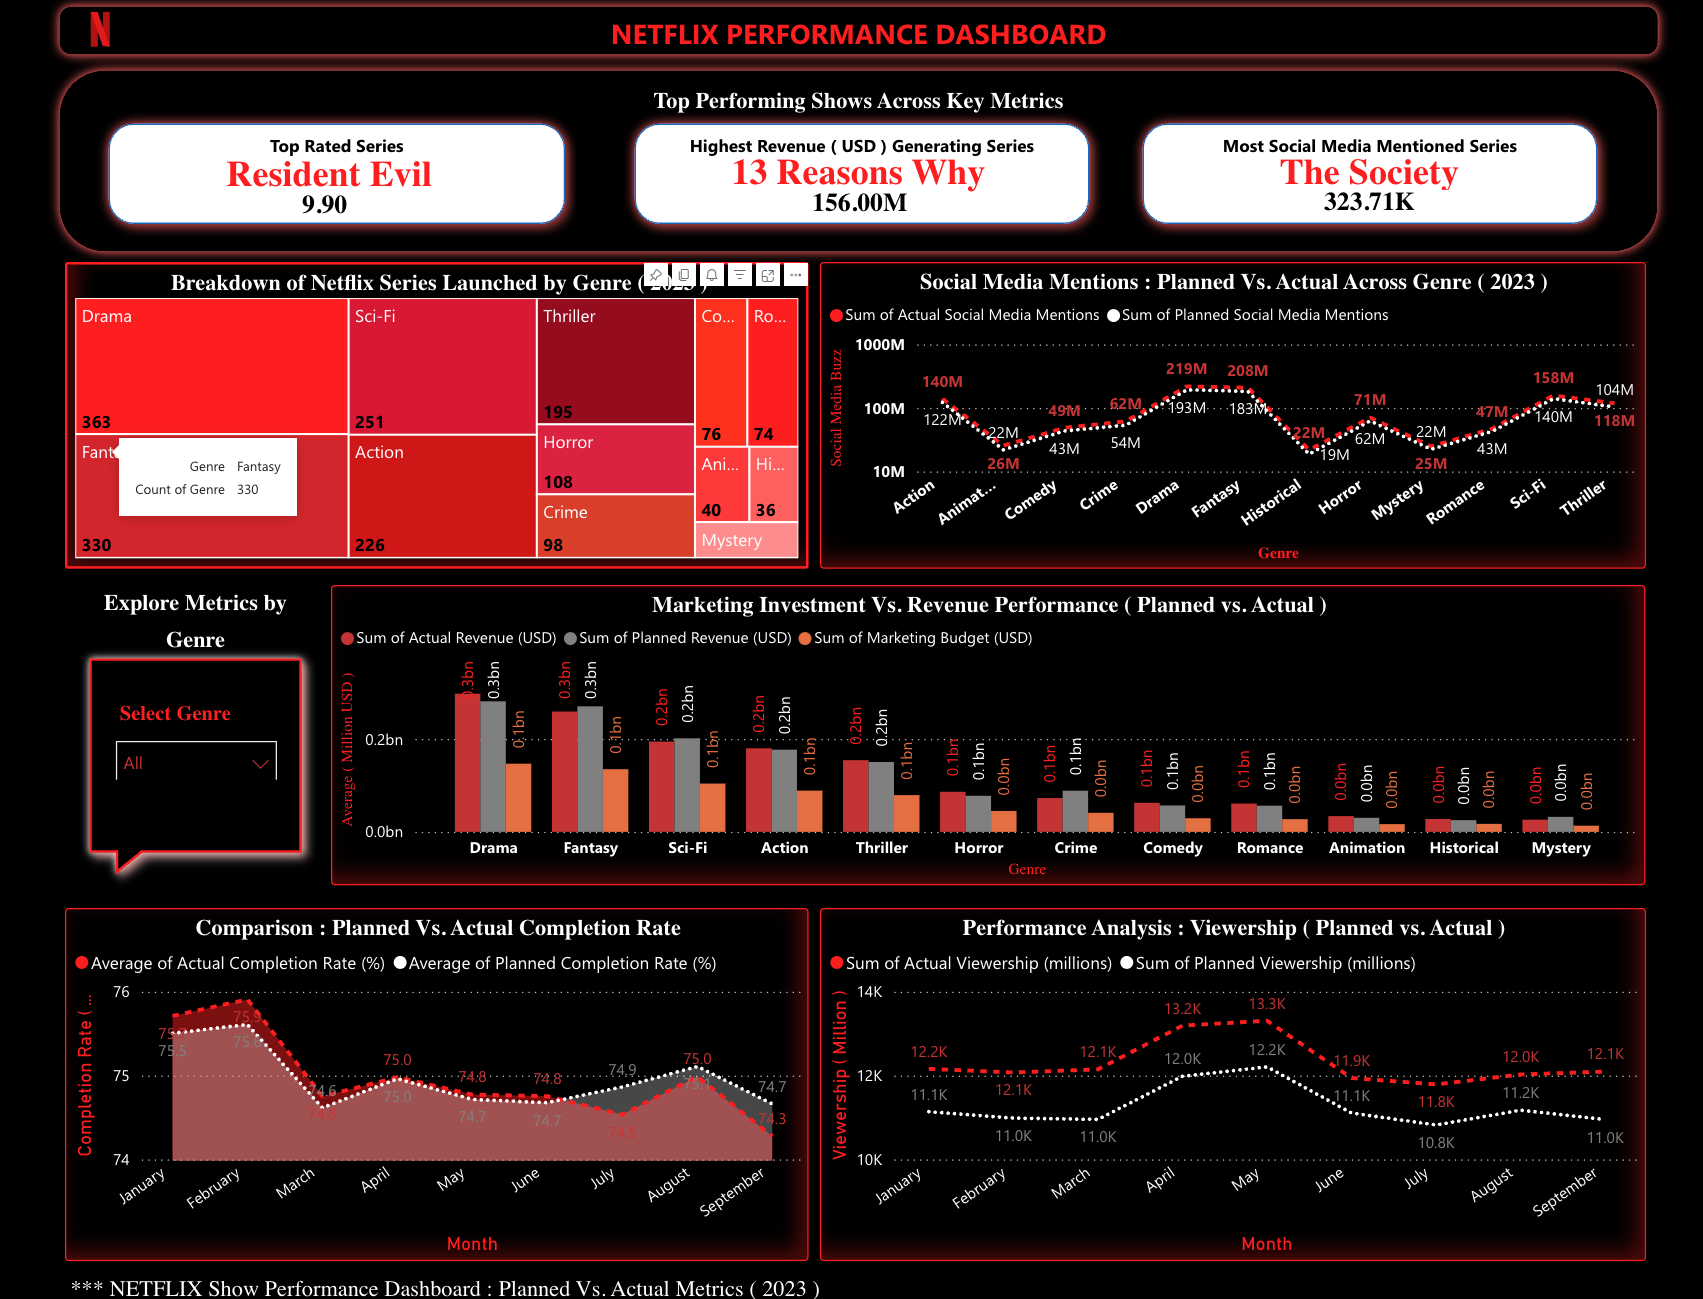

The page's visual inventory and layout, read from the dashboard file:
{"tool":"powerbi","page":{"name":"Netflix_Dashboard","canvas":[1280,1015],"ordinal":0},"visuals":[{"type":"shape","box":[10.1,1.4,1256.5,53.6],"z":0},{"type":"image","box":[10,3.7,78.4,47.3],"z":1000},{"type":"shape","box":[10,51,1256.2,156.7],"z":2000},{"type":"shape","box":[47.2,91.7,372.2,95.8],"z":3000},{"type":"shape","box":[455.6,91.7,370.8,95.8],"z":4000},{"type":"shape","box":[850,91.7,370.8,95.8],"z":5000},{"type":"card","fields":{"Values":["Avg(Final_Cleaned_Netflix_TV_Shows_KPI_Dataset.Actual Rating (IMDB))"]},"box":[175,147.2,97.2,33.3],"z":6000},{"type":"card","title":"hhhh","fields":{"Values":["Min(Final_Cleaned_Netflix_TV_Shows_KPI_Dataset.Show Name)"]},"box":[116.7,119.4,222.2,38.9],"z":7000},{"type":"card","title":"hhhh","fields":{"Values":["Min(Final_Cleaned_Netflix_TV_Shows_KPI_Dataset.Show Name)"]},"box":[515.3,115.3,245.8,43.1],"z":8000},{"type":"card","fields":{"Values":["Sum(Final_Cleaned_Netflix_TV_Shows_KPI_Dataset.Actual Revenue (USD))"]},"box":[590.3,145.8,97.2,33.3],"z":9000},{"type":"card","title":"hhhh","fields":{"Values":["Min(Final_Cleaned_Netflix_TV_Shows_KPI_Dataset.Show Name)"]},"box":[918.1,118.1,233.3,38.9],"z":10000},{"type":"card","fields":{"Values":["Sum(Final_Cleaned_Netflix_TV_Shows_KPI_Dataset.Actual Revenue (USD))"]},"box":[984.7,145.8,100,31.9],"z":11000},{"type":"treemap","title":"Breakdown of Netflix Series Launched by Genre ( 2023 )","fields":{"Values":["CountNonNull(Final_Cleaned_Netflix_TV_Shows_KPI_Dataset.Genre)"],"Group":["Final_Cleaned_Netflix_TV_Shows_KPI_Dataset.Genre"]},"box":[22.4,207.7,577.1,237.6],"z":12000},{"type":"areaChart","title":"Social Media Mentions : Planned Vs. Actual  Across Genre ( 2023 )","fields":{"Category":["Final_Cleaned_Netflix_TV_Shows_KPI_Dataset.Genre"],"Y":["Sum(Final_Cleaned_Netflix_TV_Shows_KPI_Dataset.Actual Social Media Mentions)","Sum(Final_Cleaned_Netflix_TV_Shows_KPI_Dataset.Planned Social Media Mentions)"]},"box":[608.2,207.7,640.5,237.6],"z":13000},{"type":"shape","title":"Explore Metrics by Genre","box":[30.4,459.4,187,234.8],"z":14000},{"type":"slicer","fields":{"Values":["Final_Cleaned_Netflix_TV_Shows_KPI_Dataset.Genre"]},"box":[52.2,542,144.9,68.1],"z":15000},{"type":"clusteredColumnChart","title":"Marketing Investment Vs. Revenue Performance ( Planned vs. Actual )","fields":{"Category":["Final_Cleaned_Netflix_TV_Shows_KPI_Dataset.Genre"],"Y":["Sum(Final_Cleaned_Netflix_TV_Shows_KPI_Dataset.Actual Revenue (USD))","Sum(Final_Cleaned_Netflix_TV_Shows_KPI_Dataset.Planned Revenue (USD))","Sum(Final_Cleaned_Netflix_TV_Shows_KPI_Dataset.Marketing Budget (USD))"]},"box":[228.9,459,1019.9,232.6],"z":16000},{"type":"areaChart","title":"Comparison : Planned Vs. Actual Completion Rate","fields":{"Category":["Final_Cleaned_Netflix_TV_Shows_KPI_Dataset.Date.Variation.Date Hierarchy.Month"],"Y":["Avg(Final_Cleaned_Netflix_TV_Shows_KPI_Dataset.Actual Completion Rate (%))","Avg(Final_Cleaned_Netflix_TV_Shows_KPI_Dataset.Planned Completion Rate (%))"]},"box":[22.4,709,577.1,273.6],"z":17000},{"type":"lineChart","title":"Performance Analysis : Viewership ( Planned vs. Actual )","fields":{"Category":["Final_Cleaned_Netflix_TV_Shows_KPI_Dataset.Date.Variation.Date Hierarchy.Month"],"Y":["Sum(Final_Cleaned_Netflix_TV_Shows_KPI_Dataset.Actual Viewership (millions))","Sum(Final_Cleaned_Netflix_TV_Shows_KPI_Dataset.Planned Viewership (millions))"]},"box":[608.2,709,640.5,273.6],"z":18000},{"type":"textbox","title":"*** NETFLIX Show Performance Dashboard : Planned Vs. Actual Metrics ( 2023 )","box":[21.7,991.7,1226.7,26.7],"z":19000}]}

Visuals, with their boxes on the page's 1280x1015 design canvas (x1, y1, x2, y2). These are canvas units, not pixel positions in the 1703x1299 screenshot, which may show the page scaled, cropped or inside an application window:
shape: {"left": 10, "top": 1, "right": 1267, "bottom": 55}
image: {"left": 10, "top": 4, "right": 88, "bottom": 51}
shape: {"left": 10, "top": 51, "right": 1266, "bottom": 208}
shape: {"left": 47, "top": 92, "right": 419, "bottom": 188}
shape: {"left": 456, "top": 92, "right": 826, "bottom": 188}
shape: {"left": 850, "top": 92, "right": 1221, "bottom": 188}
card - Avg(Final_Cleaned_Netflix_TV_Shows_KPI_Dataset.Actual Rating (IMDB)): {"left": 175, "top": 147, "right": 272, "bottom": 180}
"hhhh" card: {"left": 117, "top": 119, "right": 339, "bottom": 158}
"hhhh" card: {"left": 515, "top": 115, "right": 761, "bottom": 158}
card - Sum(Final_Cleaned_Netflix_TV_Shows_KPI_Dataset.Actual Revenue (USD)): {"left": 590, "top": 146, "right": 688, "bottom": 179}
"hhhh" card: {"left": 918, "top": 118, "right": 1151, "bottom": 157}
card - Sum(Final_Cleaned_Netflix_TV_Shows_KPI_Dataset.Actual Revenue (USD)): {"left": 985, "top": 146, "right": 1085, "bottom": 178}
"Breakdown of Netflix Series Launched by Genre ( 2023 )" treemap: {"left": 22, "top": 208, "right": 600, "bottom": 445}
"Social Media Mentions : Planned Vs. Actual  Across Genre ( 2023 )" areaChart: {"left": 608, "top": 208, "right": 1249, "bottom": 445}
"Explore Metrics by Genre" shape: {"left": 30, "top": 459, "right": 217, "bottom": 694}
slicer - Final_Cleaned_Netflix_TV_Shows_KPI_Dataset.Genre: {"left": 52, "top": 542, "right": 197, "bottom": 610}
"Marketing Investment Vs. Revenue Performance ( Planned vs. Actual )" clusteredColumnChart: {"left": 229, "top": 459, "right": 1249, "bottom": 692}
"Comparison : Planned Vs. Actual Completion Rate" areaChart: {"left": 22, "top": 709, "right": 600, "bottom": 983}
"Performance Analysis : Viewership ( Planned vs. Actual )" lineChart: {"left": 608, "top": 709, "right": 1249, "bottom": 983}
"*** NETFLIX Show Performance Dashboard : Planned Vs. Actual Metrics ( 2023 )" textbox: {"left": 22, "top": 992, "right": 1248, "bottom": 1018}
